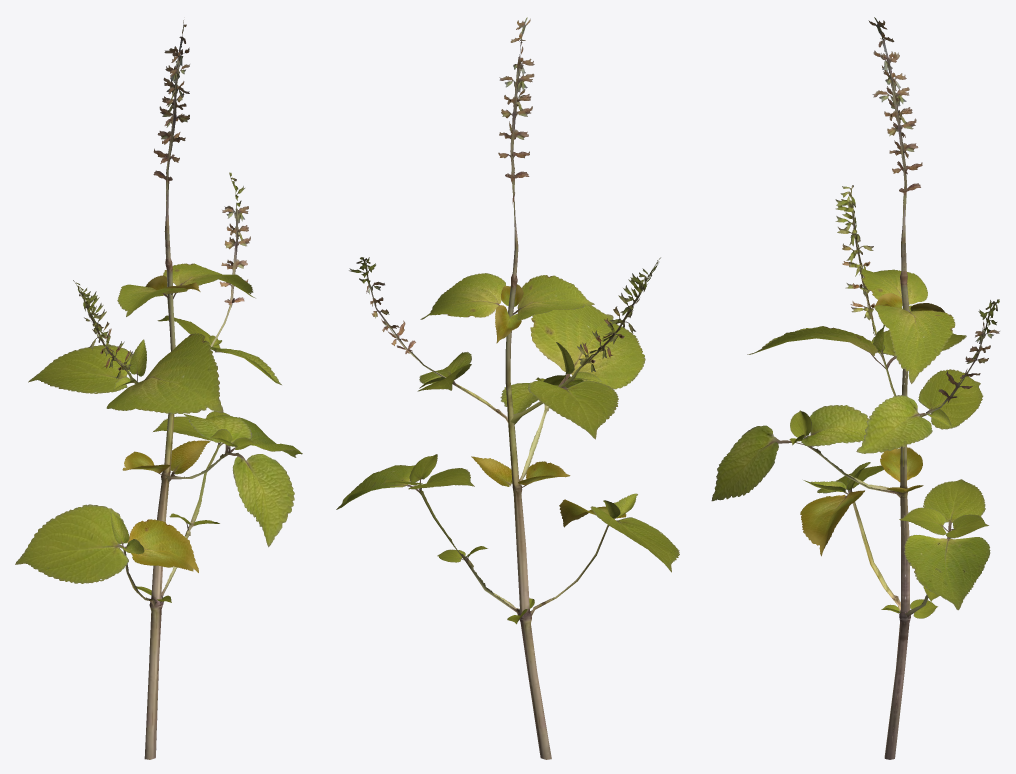
The model's file is shrub-03-d.glb.
3 views of the same model, side by side, from view 1: azimuth 30°, elevation 25°; view 2: azimuth 150°, elevation 25°; view 3: azimuth 270°, elevation 25° (orthographic). The views are drawn at different scales.
Visible parts, largest first — view 1: shrub_03_d; view 2: shrub_03_d; view 3: shrub_03_d.
Boxes of the visible parts, x1,y1,x2,y2 form: shrub_03_d: (15,20,302,759); shrub_03_d: (336,17,679,759); shrub_03_d: (711,17,999,759).
Bounding box in the file's own units: 0.1128 × 0.2556 × 0.0893.
1 material, 1 textured.
